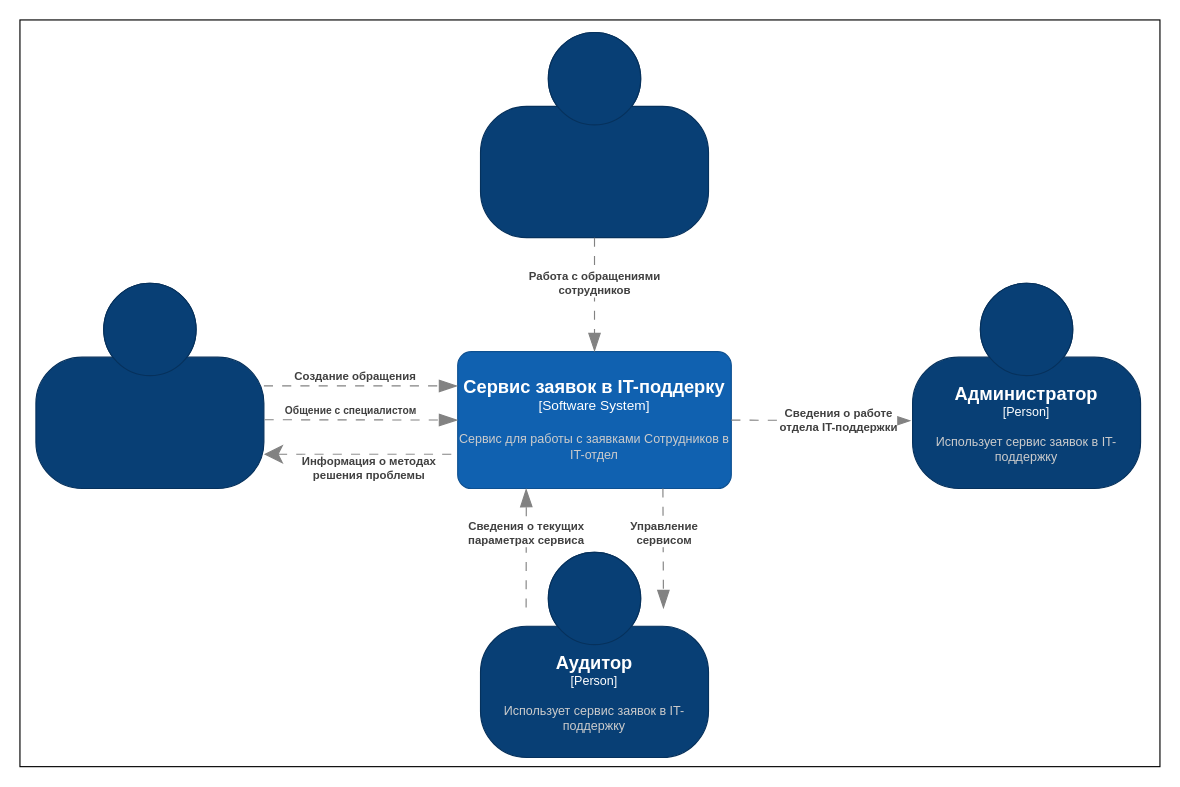
Some shapes in this 1180 by 787 pixel diagram are drawn without their labels. The box of each missing label's shape, as (x1, y1, x2, y2) in pixels:
Сотрудник [Person] Использует сервис заявок в IT-поддержку: (35, 282, 264, 488)
Специалист [Person] Использует сервис заявок в IT-поддержку: (479, 31, 709, 238)
